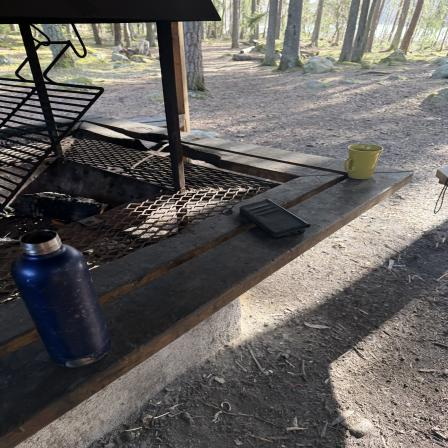blue_bottle: (10, 230, 111, 367)
phone: (237, 198, 311, 243)
yellow_cup: (346, 141, 382, 180)
